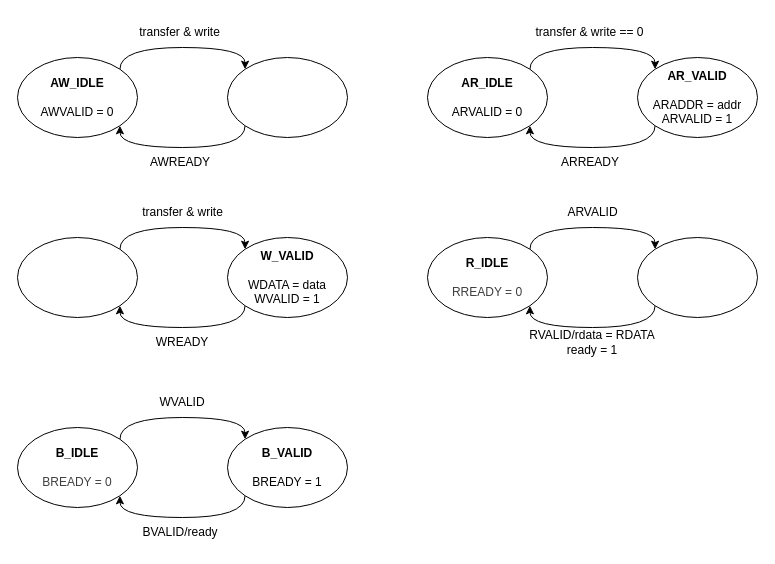
This 775x564 diagram has some shape labels left out. The shapes that lost their labels are listed below. From the top down, each one's box as (x1, y1, x2, y2) in pixels, then its label:
(226, 56, 348, 138): AW_VALID AWADDR = addr AWVALID = 1
(16, 236, 138, 318): W_IDLE WVALID = 0
(636, 236, 758, 318): R_READY RDATA = data RVALID = 1
